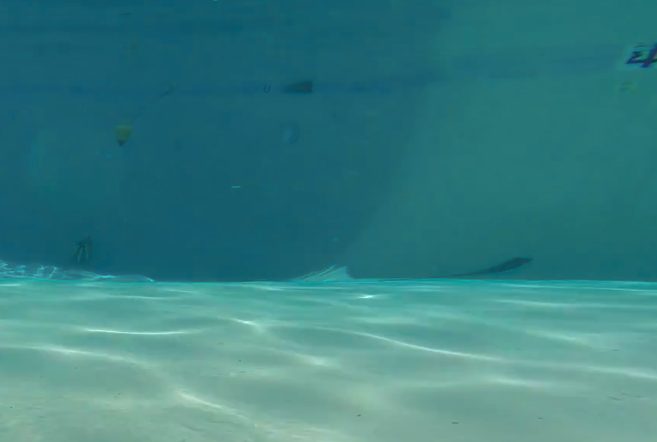yellow_buoy: (111, 119, 135, 151)
